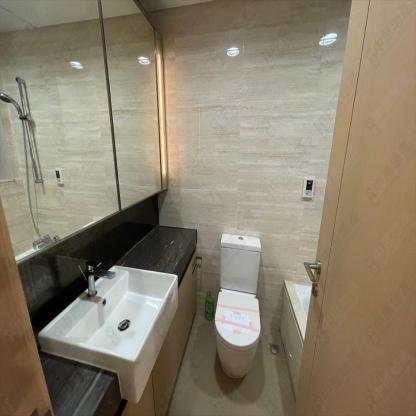Bathtub: (280, 278, 313, 401)
Faucet: (80, 257, 115, 299)
Toilet: (213, 232, 262, 381)
Toilet Sink: (34, 265, 179, 402)
